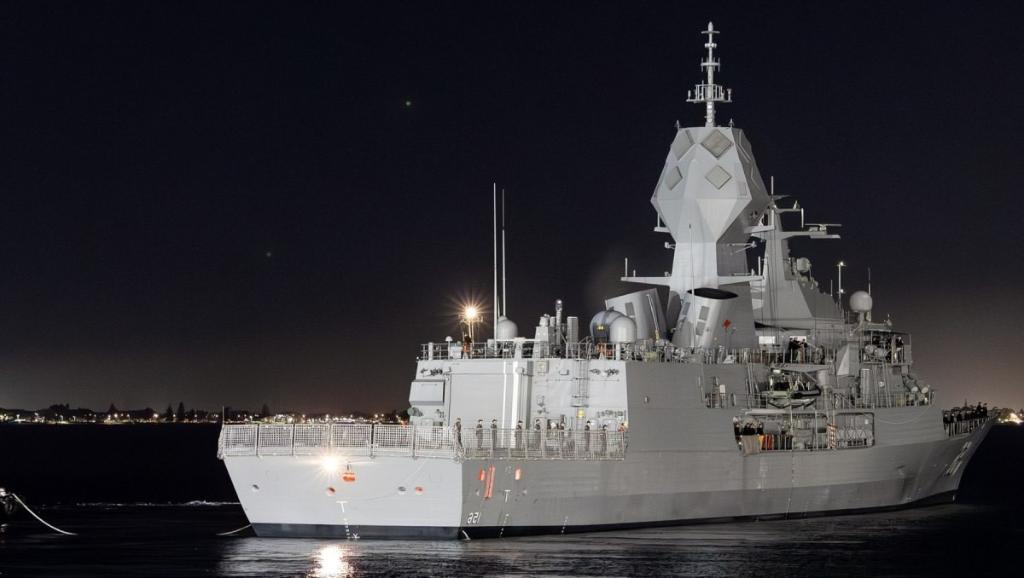Warship: (206, 14, 1008, 540)
